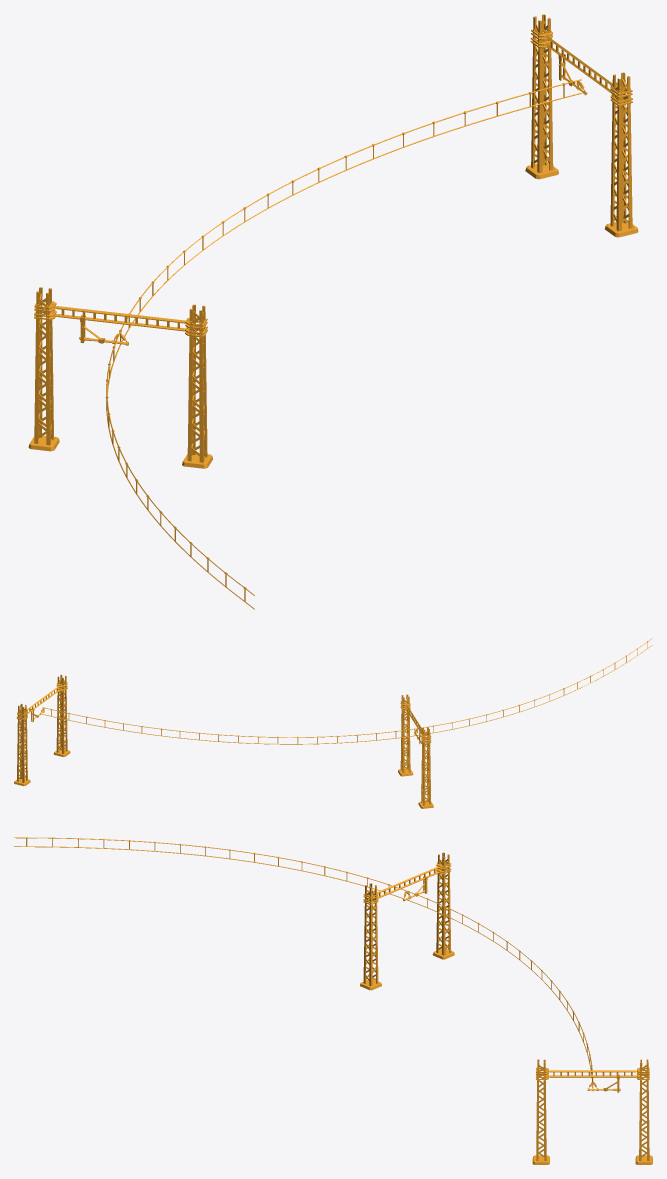
Rendered from SM_Train_Wiring_Turn.fbx.
3 renders of one model, top to bottom at view 1: azimuth 30°, elevation 25°; view 2: azimuth 150°, elevation 25°; view 3: azimuth 270°, elevation 25°, orthographic. The views are drawn at different scales.
Parts seen in each view (by area): view 1: SM_Train_Wiring_Turn; view 2: SM_Train_Wiring_Turn; view 3: SM_Train_Wiring_Turn.
Boxes of the visible parts, bbox=[...] form: SM_Train_Wiring_Turn: bbox=[28, 14, 638, 609]; SM_Train_Wiring_Turn: bbox=[14, 638, 652, 808]; SM_Train_Wiring_Turn: bbox=[14, 837, 652, 1164].
Size of the model in its own units: 45.74 by 8.58 by 49.67.
